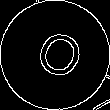O_SW: (25, 23, 85, 87)
